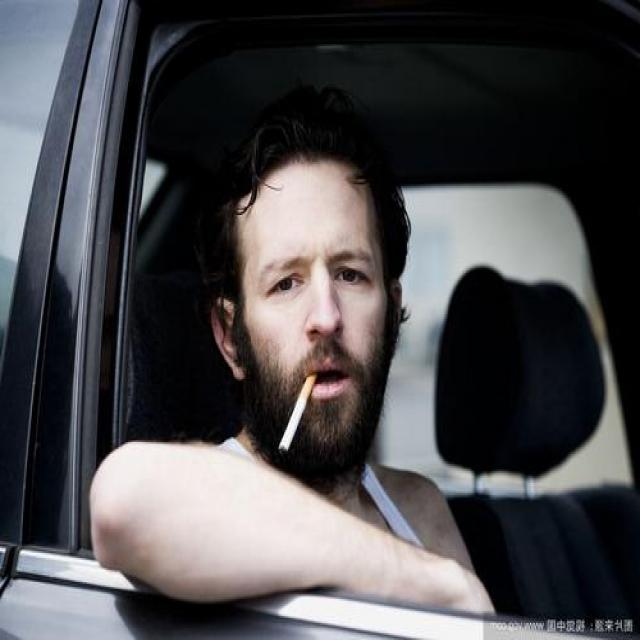smoking: (264, 356, 326, 460)
